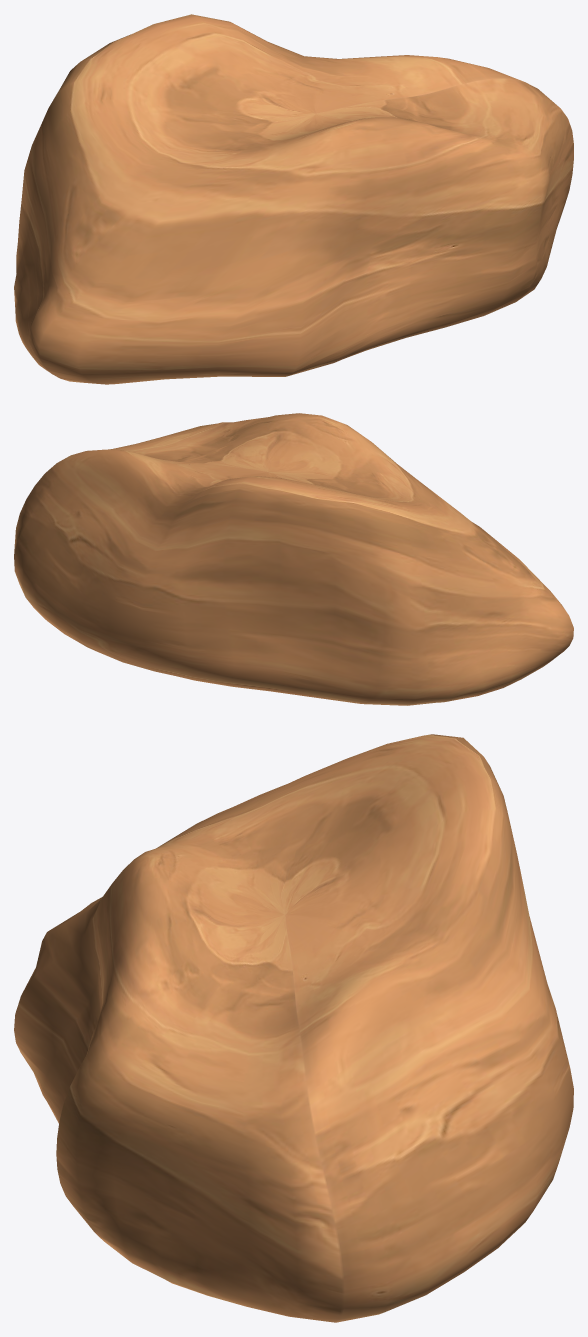
File: rock.fbx
The picture shows the model from 3 angles, top to bottom: view 1: azimuth 30°, elevation 25°; view 2: azimuth 150°, elevation 25°; view 3: azimuth 270°, elevation 25°; orthographic projection. The views are drawn at different scales.
Visible parts, largest first — view 1: pSphere1; view 2: pSphere1; view 3: pSphere1.
Boxes of the visible parts, x1=… form: pSphere1: x1=14, y1=14, x2=573, y2=384; pSphere1: x1=14, y1=413, x2=573, y2=705; pSphere1: x1=14, y1=734, x2=573, y2=1322.
Size of the model in its own units: 128 by 51.73 by 77.59.
Materials: 1 (1 with a texture image).
